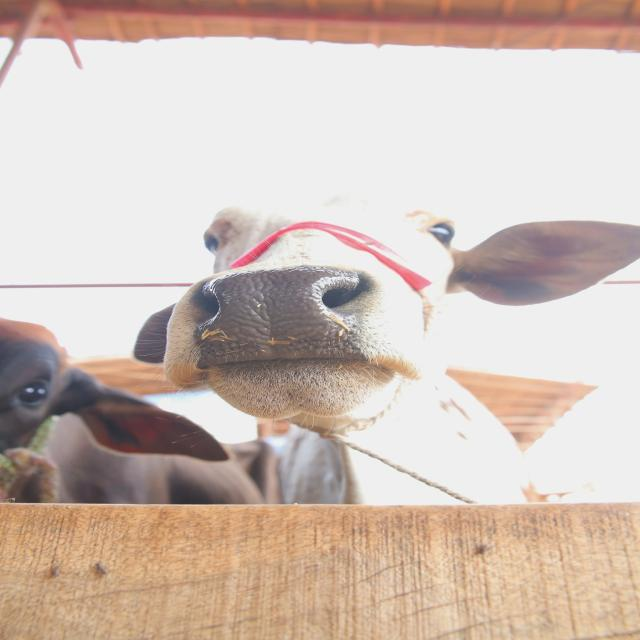muzzles: (176, 264, 388, 374)
